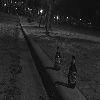beer: (69, 55, 81, 91)
